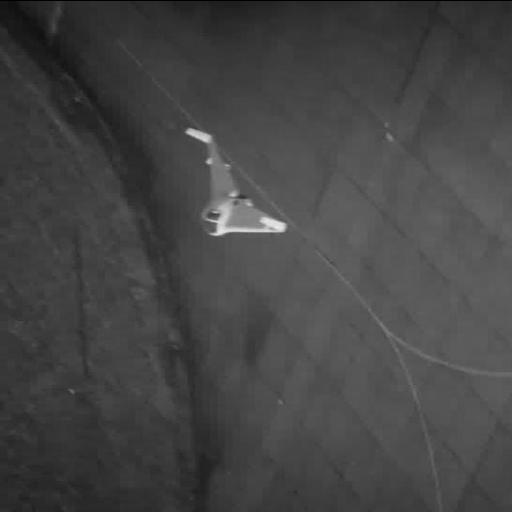uav: (177, 126, 299, 240)
